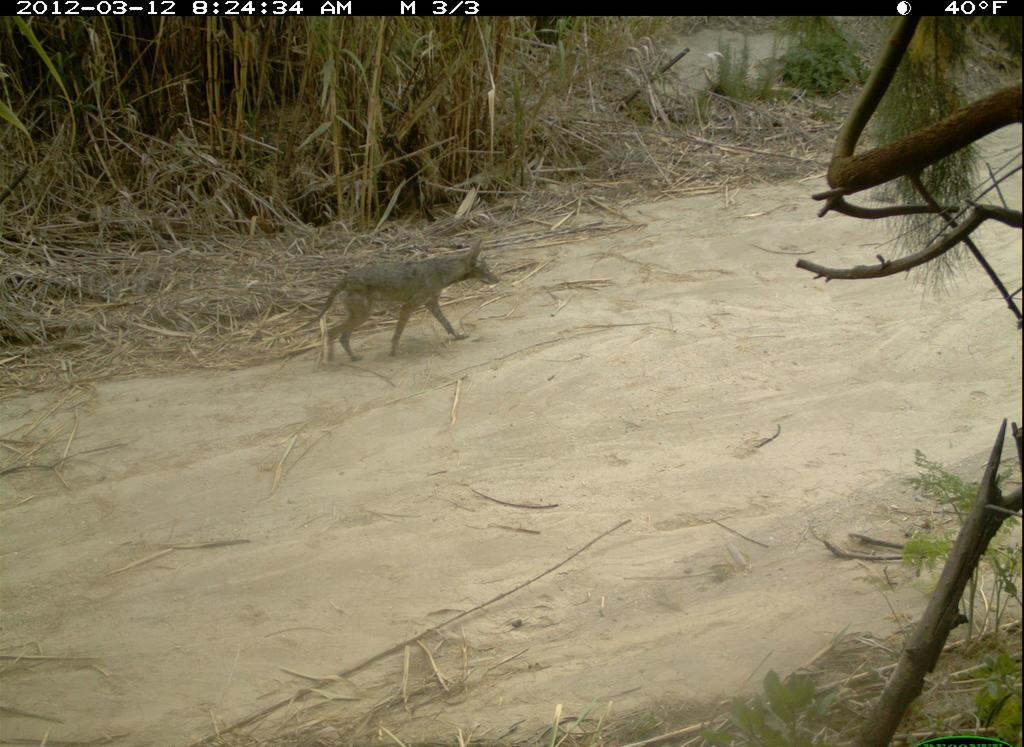coyote: (306, 235, 507, 370)
